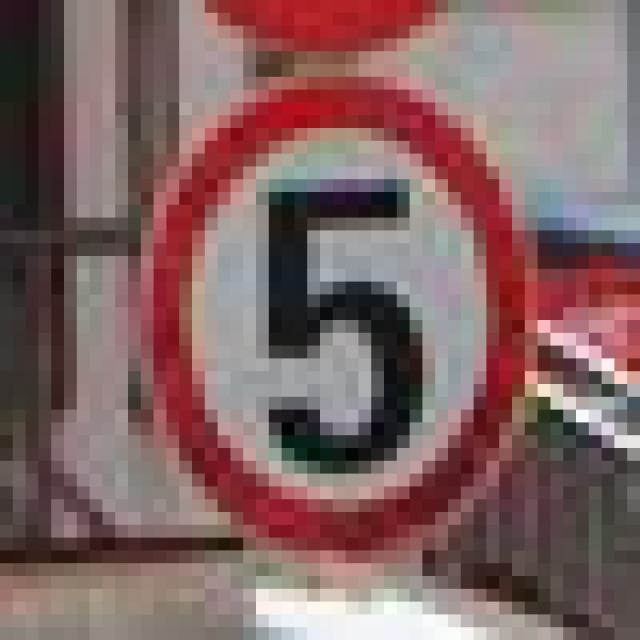speed_limit_20: (128, 64, 538, 563)
